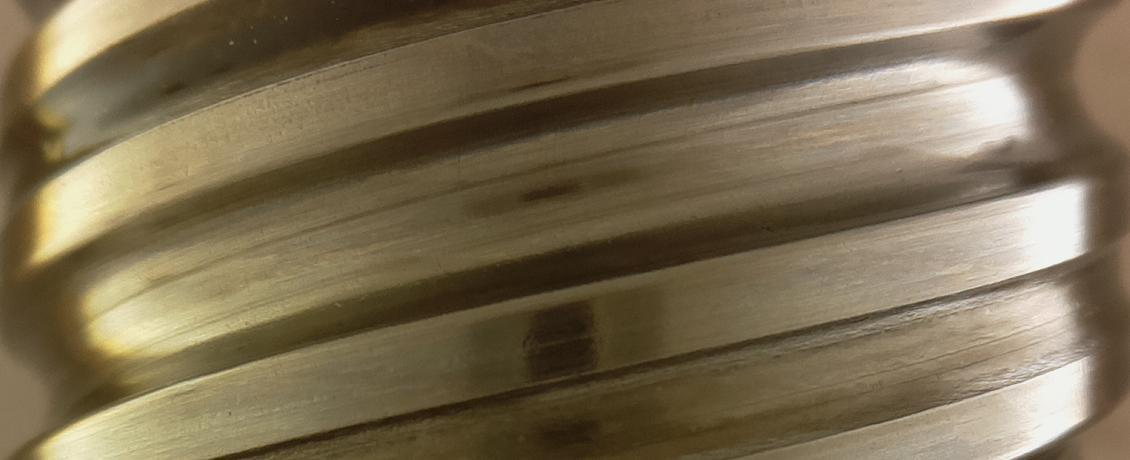pitting: (759, 225, 771, 232)
